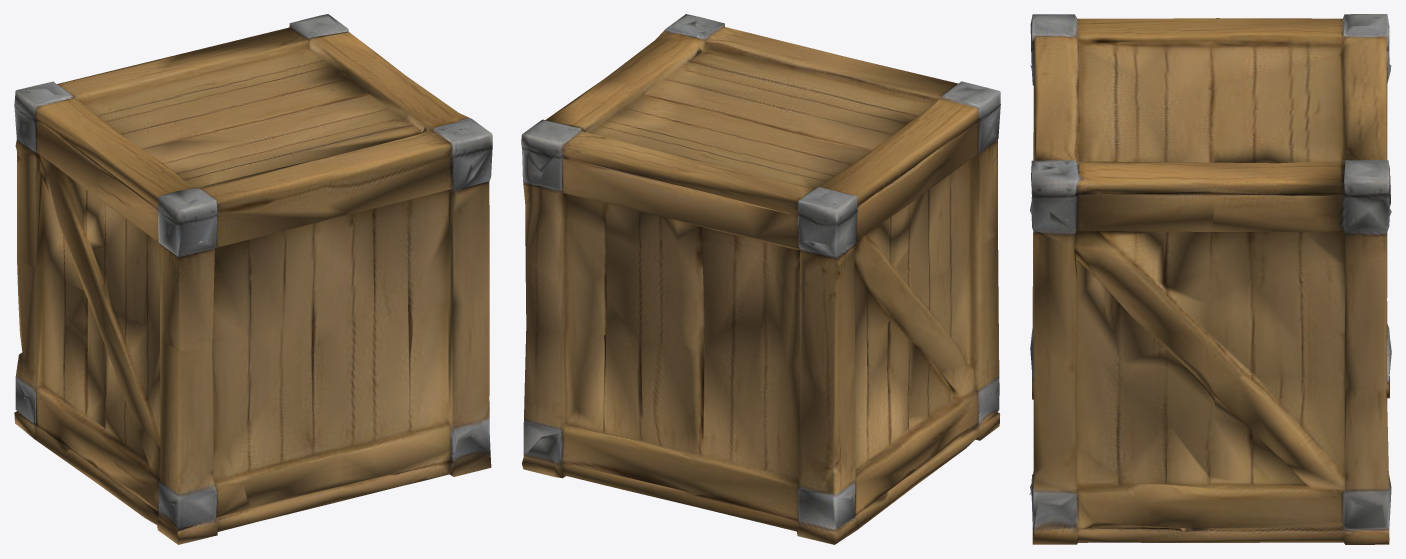
File: crate.glb
3 views of the same model, side by side, from view 1: azimuth 30°, elevation 25°; view 2: azimuth 150°, elevation 25°; view 3: azimuth 270°, elevation 25° (orthographic). The views are drawn at different scales.
Visible parts, largest first — view 1: tripo_node_9b058190-713f-4cd0-a802-1d5b694e37ed; view 2: tripo_node_9b058190-713f-4cd0-a802-1d5b694e37ed; view 3: tripo_node_9b058190-713f-4cd0-a802-1d5b694e37ed.
Part boxes in pixels (x1=…): tripo_node_9b058190-713f-4cd0-a802-1d5b694e37ed: x1=14, y1=14, x2=492, y2=544; tripo_node_9b058190-713f-4cd0-a802-1d5b694e37ed: x1=521, y1=14, x2=1000, y2=544; tripo_node_9b058190-713f-4cd0-a802-1d5b694e37ed: x1=1029, y1=14, x2=1391, y2=544.
Size of the model in its own units: 0.9845 by 1 by 0.8927.
Materials: 1 (1 with a texture image).
